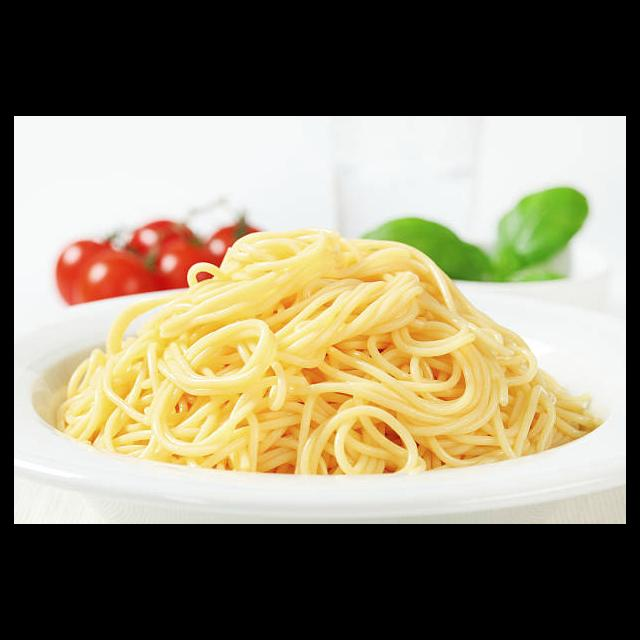noodles: (55, 228, 604, 473)
